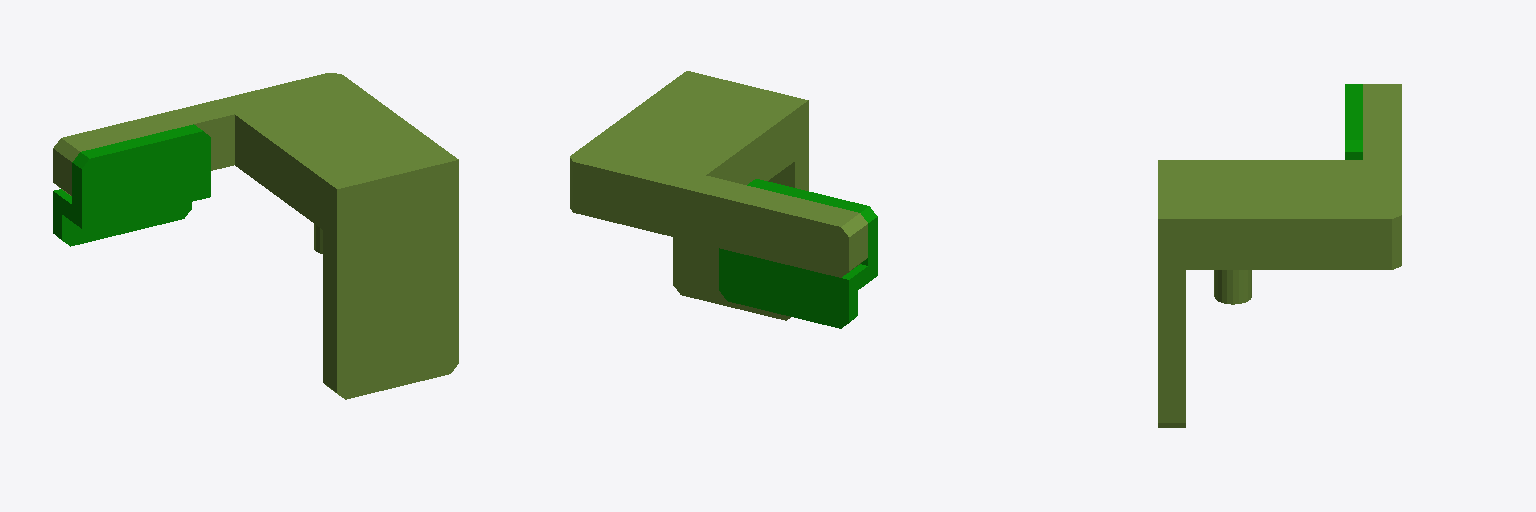
Rendered from chuck_s_R.obj.
3 views of the same model, side by side, from view 1: azimuth 30°, elevation 25°; view 2: azimuth 150°, elevation 25°; view 3: azimuth 270°, elevation 25° (orthographic).
Parts seen in each view (by area): view 1: chuck_s_R.001; view 2: chuck_s_R.001; view 3: chuck_s_R.001.
Boxes of the visible parts, x1=… form: chuck_s_R.001: x1=53, y1=73, x2=458, y2=399; chuck_s_R.001: x1=570, y1=71, x2=877, y2=328; chuck_s_R.001: x1=1158, y1=84, x2=1401, y2=427.
Size of the model in its own units: 0.35 by 0.25 by 0.26.